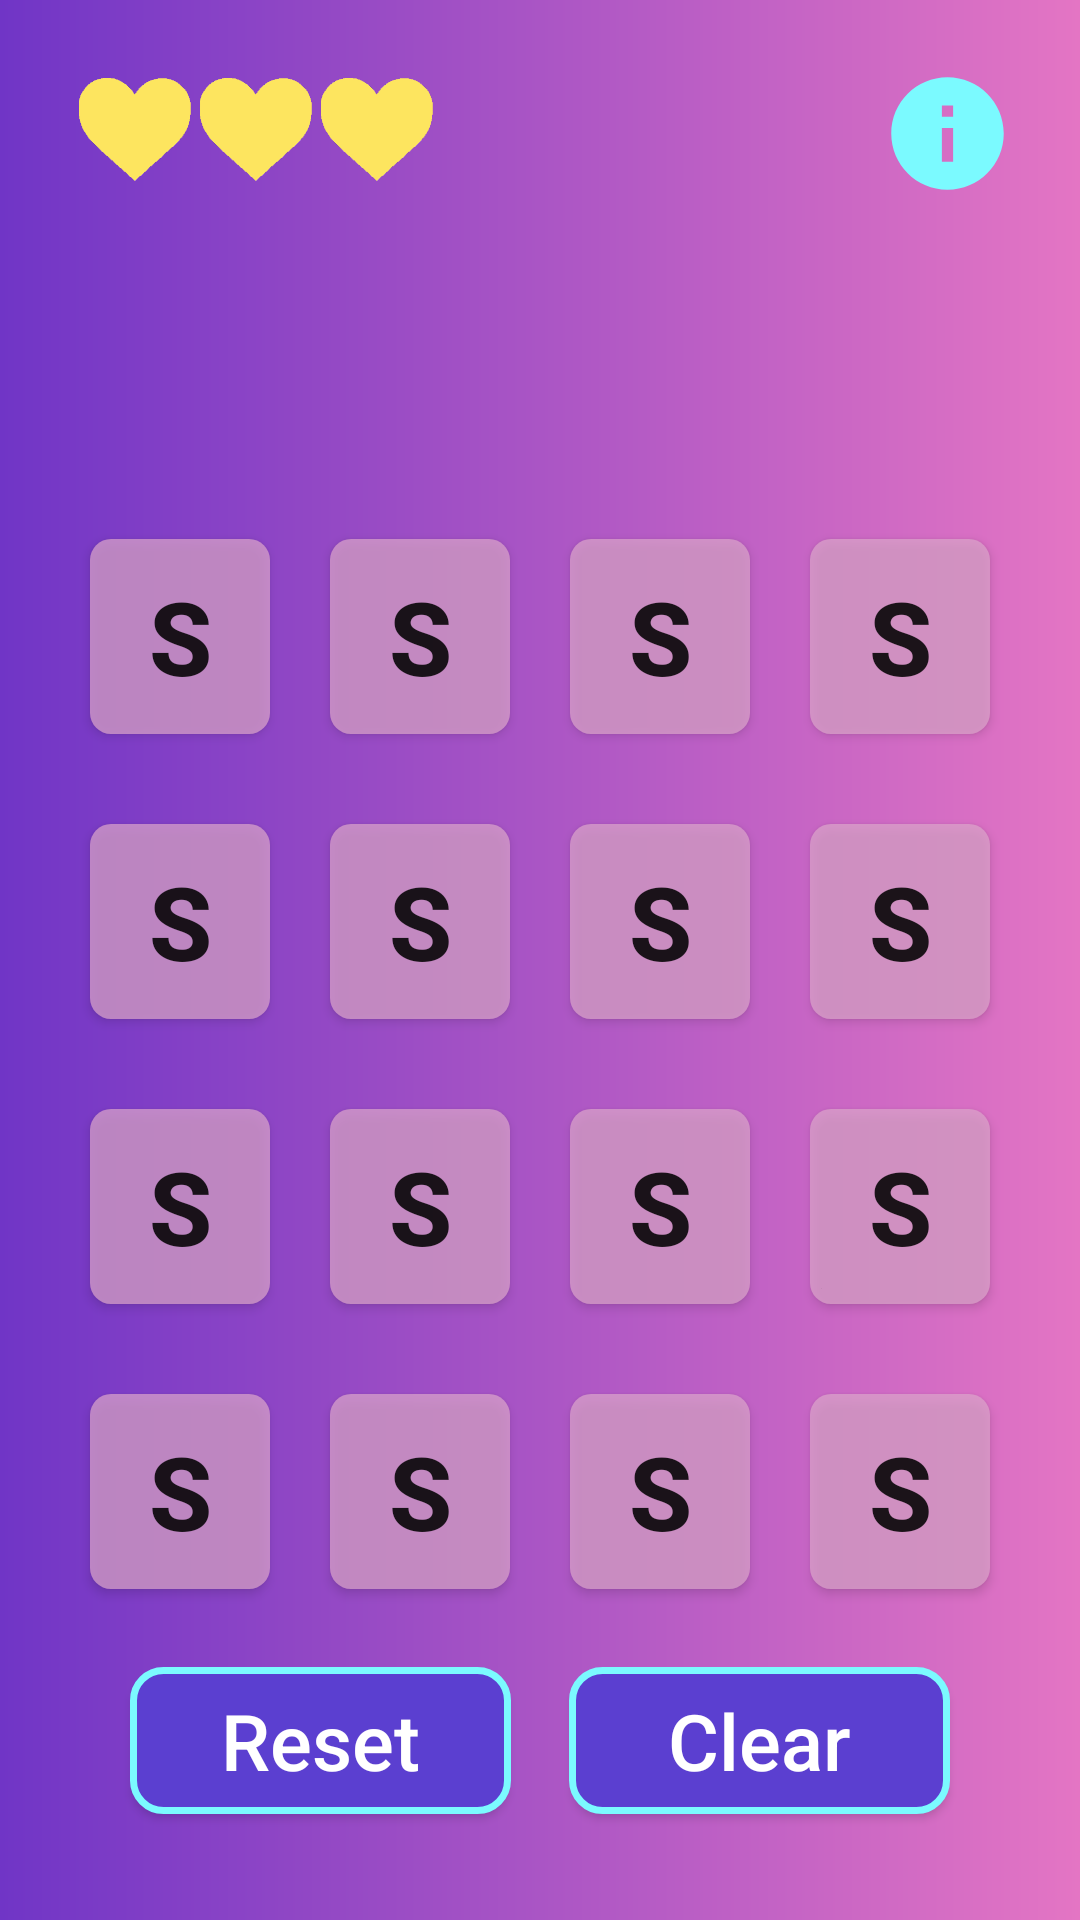

Screen size 1080*1920. Icon name, then its box in pixels as (x1, y1, x2, y2):
heart: (79, 78, 191, 181), (200, 78, 312, 181), (321, 78, 433, 181)
info: (891, 77, 1004, 190)
